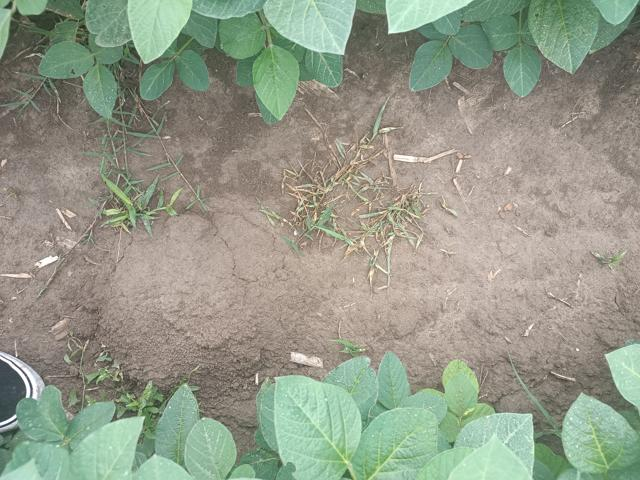bad weed: (268, 148, 448, 283), (85, 154, 217, 262)
